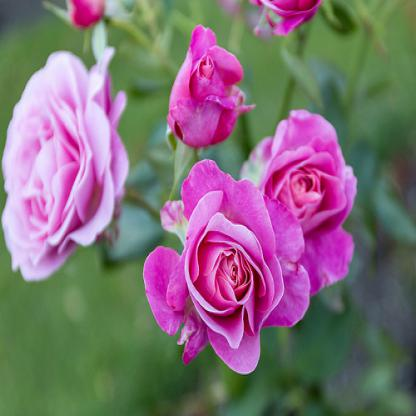ROSE-MAWAR: (138, 34, 364, 382)
